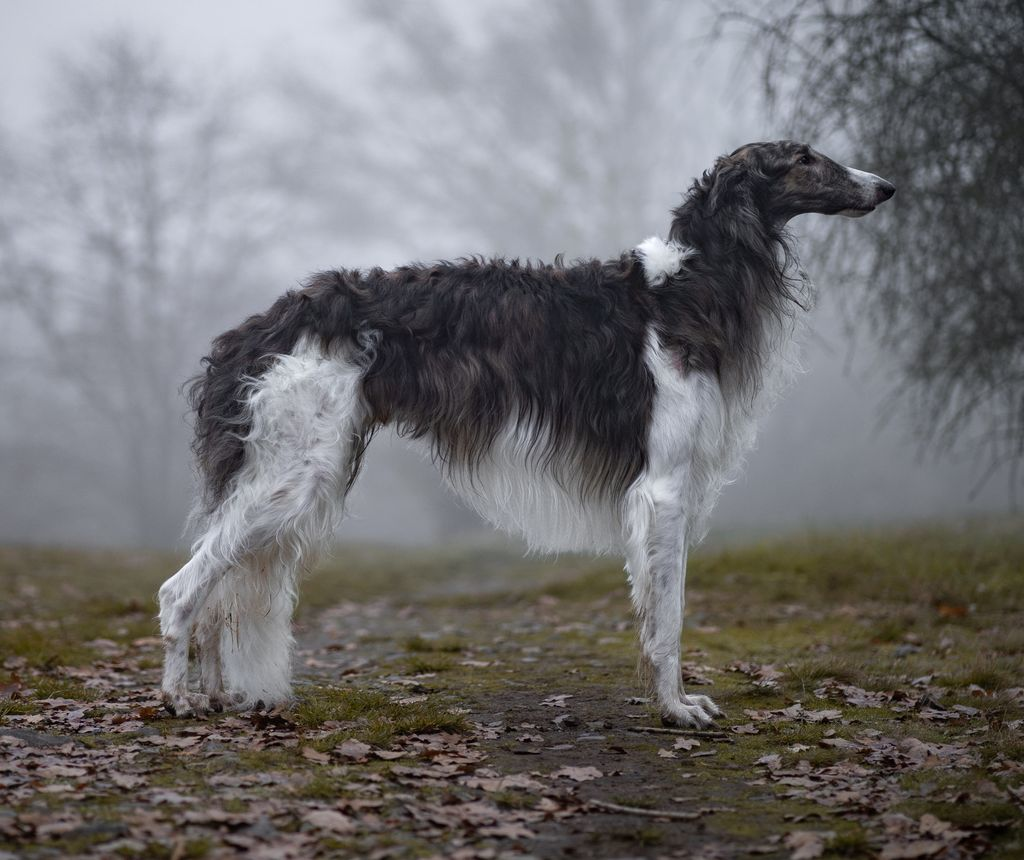borzoi: (120, 138, 938, 732)
